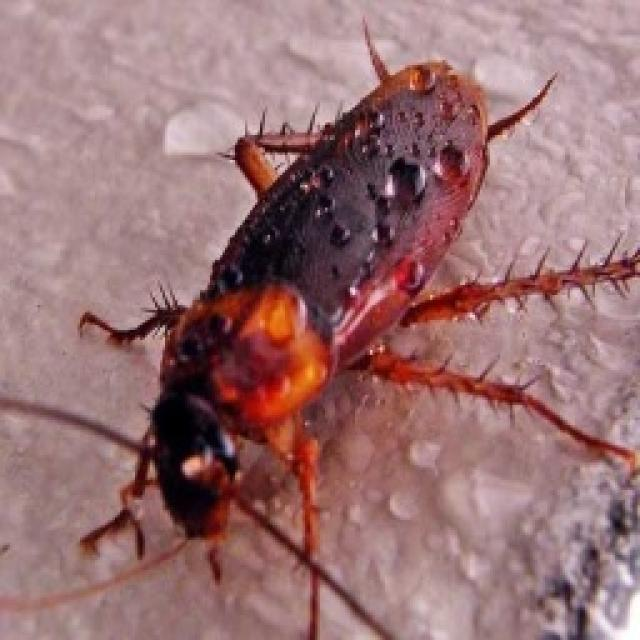cockroach: (31, 30, 574, 640)
